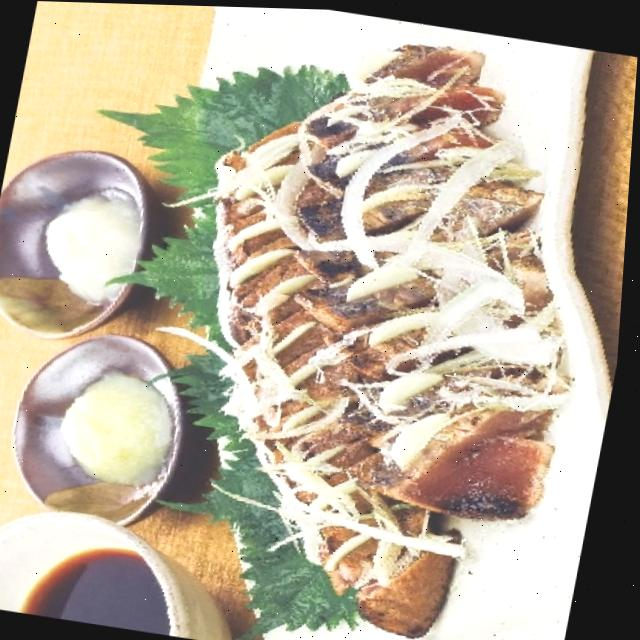熟制海鲜: (89, 3, 640, 640)
